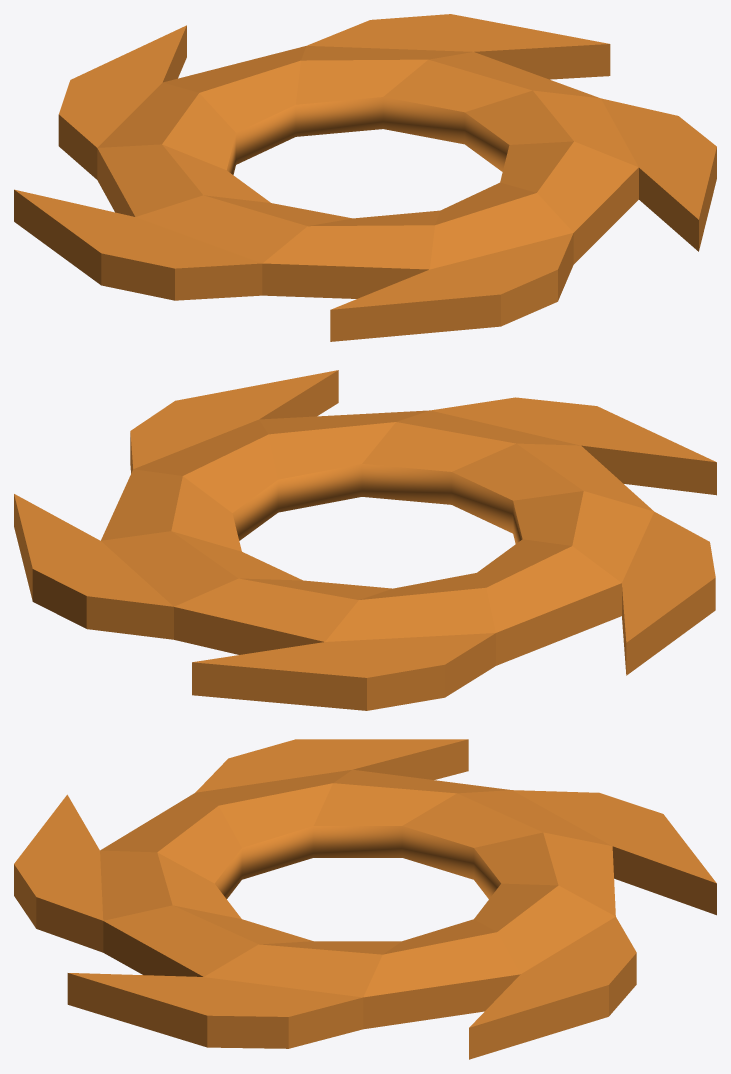
Rendered from mesh_SawRing.fbx.
3 renders of one model, top to bottom at view 1: azimuth 30°, elevation 25°; view 2: azimuth 150°, elevation 25°; view 3: azimuth 270°, elevation 25°, orthographic. The views are drawn at different scales.
Visible parts, largest first — view 1: SawGear; view 2: SawGear; view 3: SawGear.
Boxes of the visible parts, x1,y1,x2,y2 form: SawGear: [14, 14, 716, 341]; SawGear: [14, 370, 716, 710]; SawGear: [14, 739, 716, 1059].
Size of the model in its own units: 2.53 by 0.2505 by 2.61.
